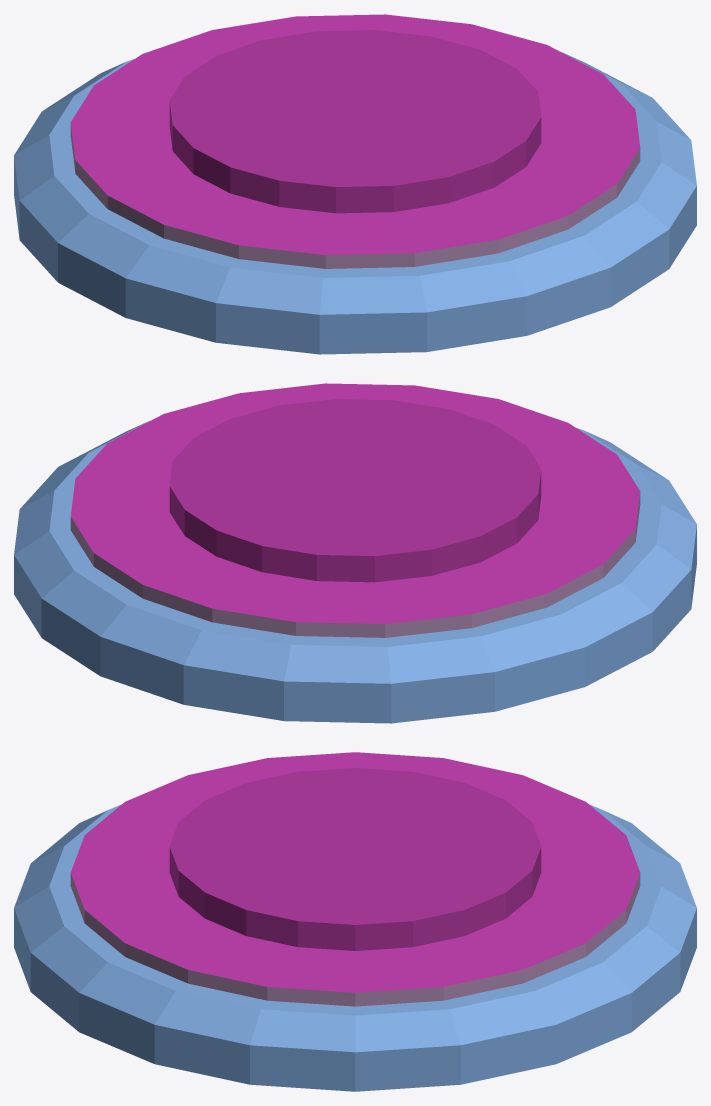
File: telepad.fbx
3 views of the same model, one above another, from view 1: azimuth 30°, elevation 25°; view 2: azimuth 150°, elevation 25°; view 3: azimuth 270°, elevation 25° (orthographic).
Parts seen in each view (by area): view 1: pCylinder1; view 2: pCylinder1; view 3: pCylinder1.
Boxes of the visible parts, left/top/right/bottom form: pCylinder1: left=14, top=14, right=696, bottom=354; pCylinder1: left=14, top=383, right=696, bottom=723; pCylinder1: left=14, top=752, right=696, bottom=1091.
Size of the model in its own units: 1.51 by 0.246 by 1.51.
